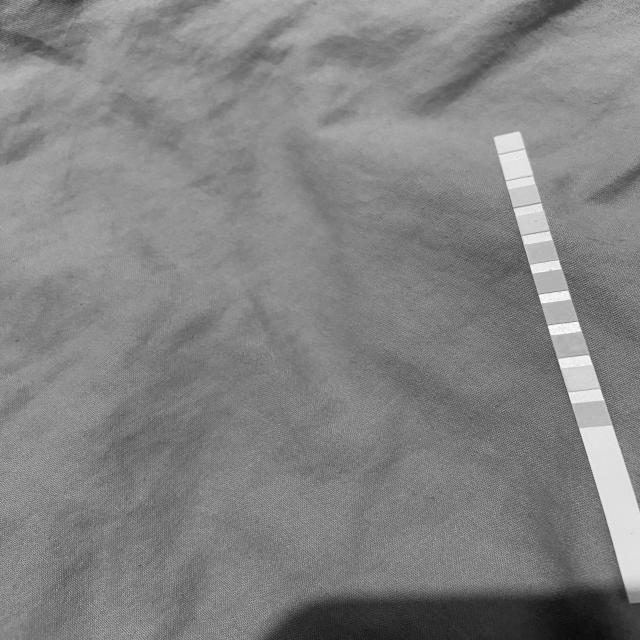Bilirubin: (568, 368, 594, 389)
Blood: (538, 273, 564, 291)
Glucose: (579, 402, 606, 426)
Ketone: (556, 335, 584, 355)
Leukocytes: (497, 136, 521, 150)
Nitrite: (506, 162, 529, 177)
Protein: (520, 216, 545, 231)
SpGravity: (548, 303, 572, 322)
Urobilinogen: (513, 188, 537, 204)
background: (0, 0, 640, 640)
pH: (530, 244, 554, 260)
strip: (493, 131, 640, 605)
